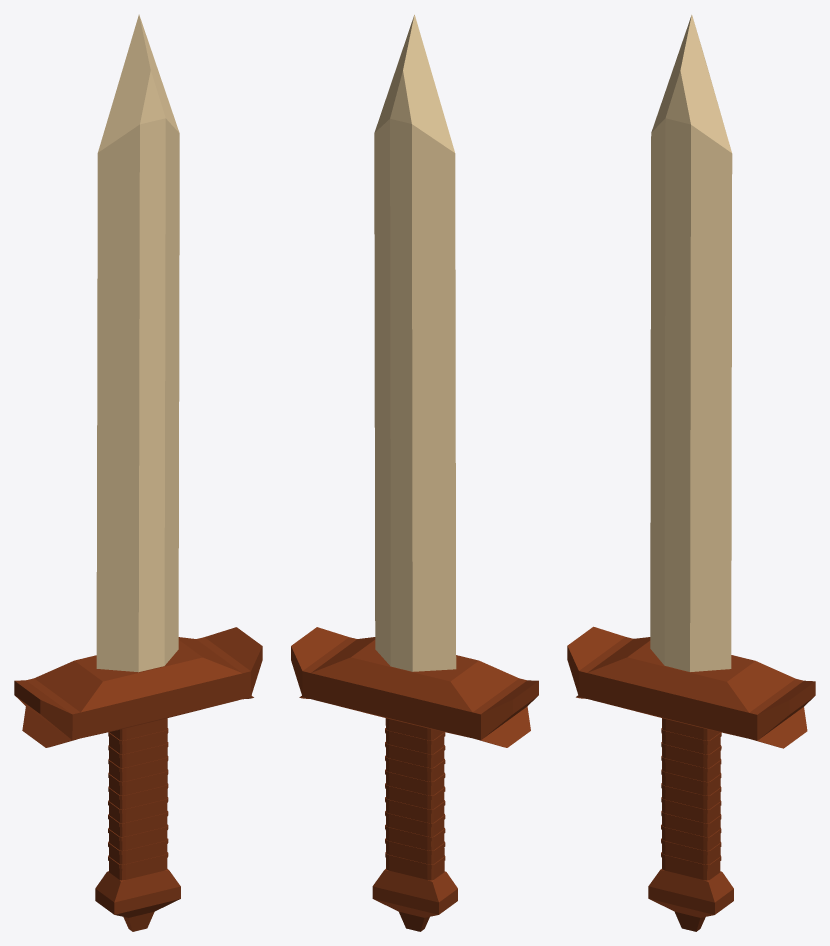
File: Sword.fbx
3 renders of one model, left to right at view 1: azimuth 30°, elevation 25°; view 2: azimuth 150°, elevation 25°; view 3: azimuth 330°, elevation 25°, orthographic.
Parts seen in each view (by area): view 1: Sword; view 2: Sword; view 3: Sword.
Boxes of the visible parts, x1,y1,x2,y2 form: Sword: (14, 14, 262, 931); Sword: (291, 14, 538, 931); Sword: (567, 14, 815, 931).
Size of the model in its own units: 100 by 394 by 36.43.
